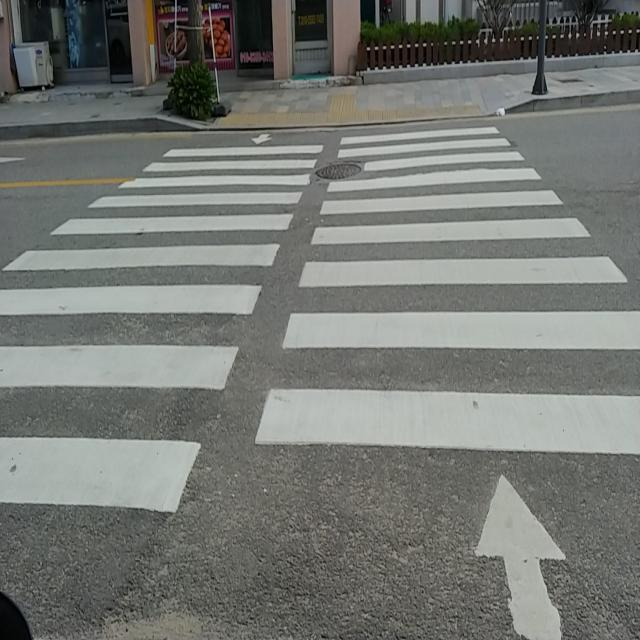횡단보도: (0, 126, 638, 637)
